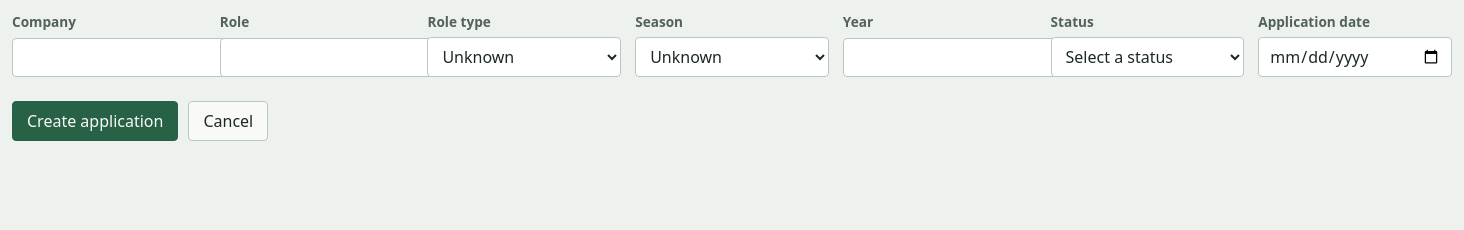
shows the API error when saving fails
Type "Acme" into the field labelled "Company" at (138, 58), box [12,38,265,77]
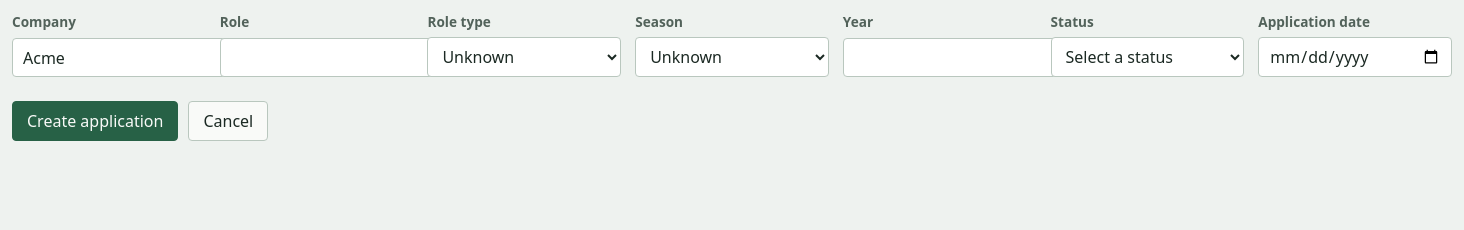
Type "Software Engineer Intern" into the field labelled "Role" at (346, 58), box [220,38,473,77]
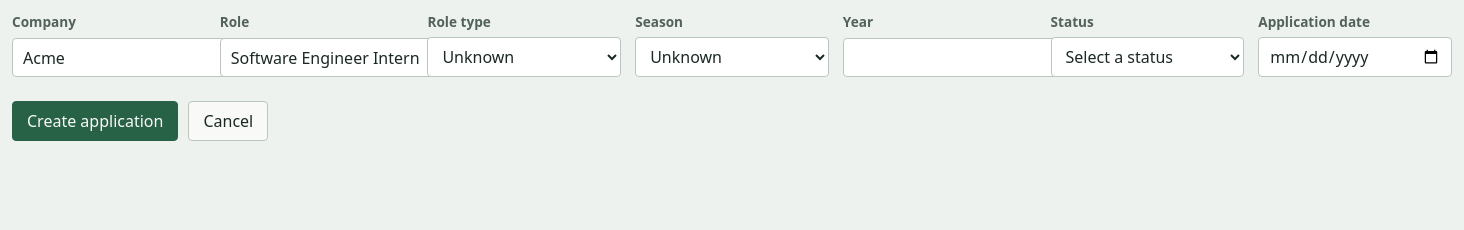
Select "Applied" in the dropdown labelled "Status" at (1147, 57), box [1051,37,1244,77]
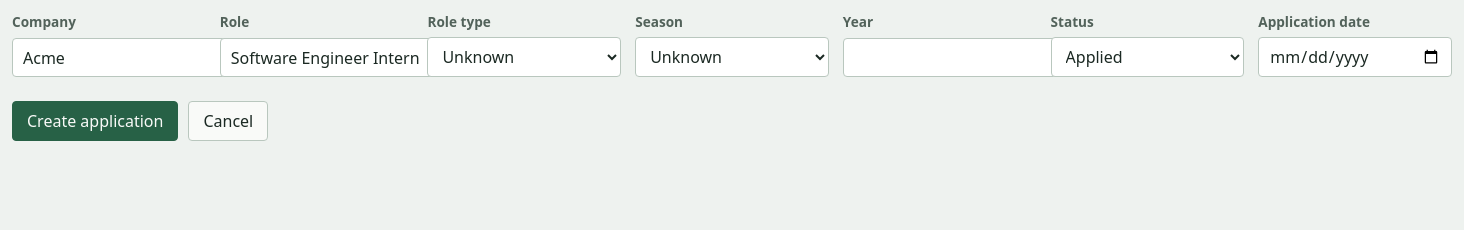
Click the button "Create application" at (95, 121), box [12,101,178,141]
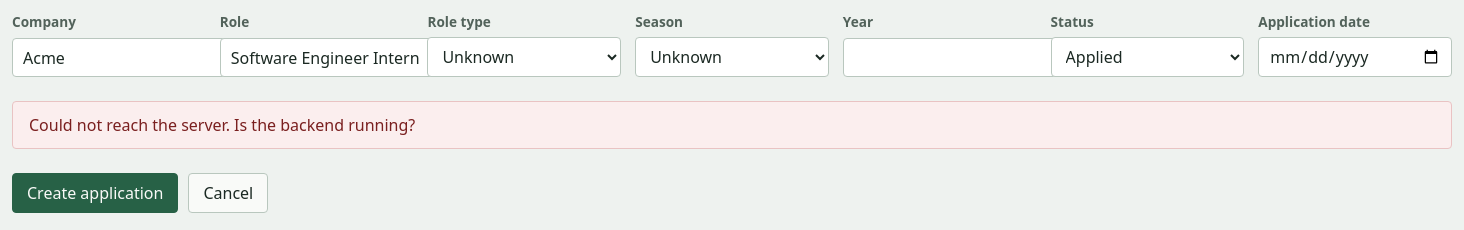
expect the message reads "Could not reach the server. Is the backend running?": met, box [29,114,415,136]
